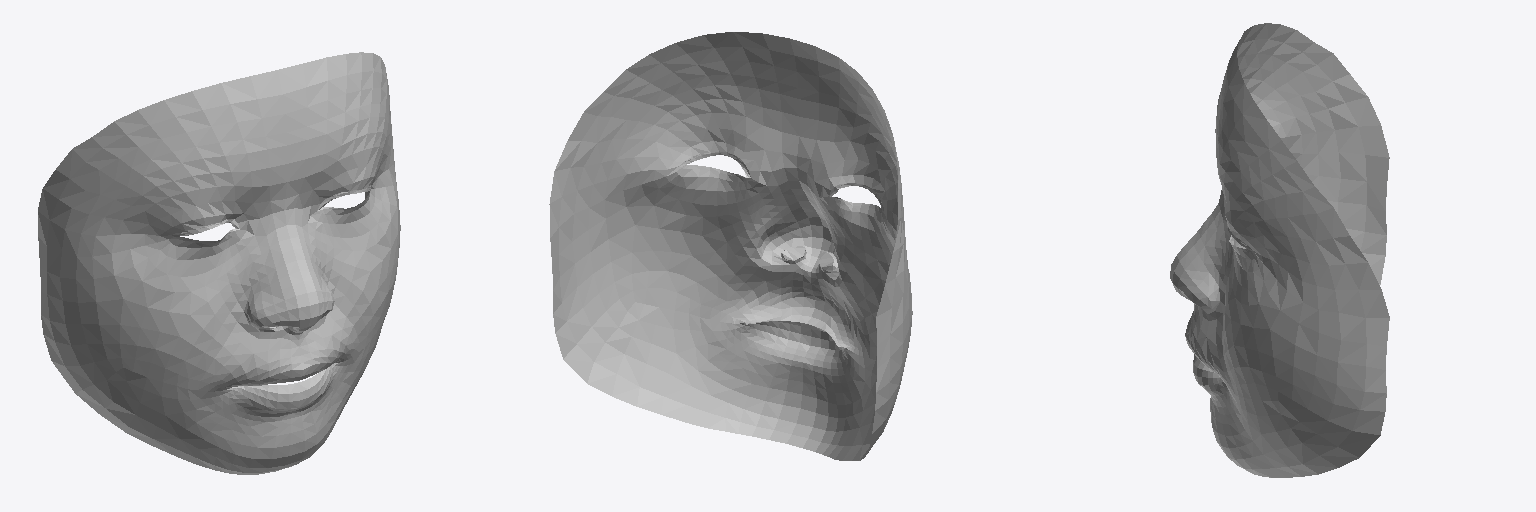
Rendered from eyeLookIn_R.obj.
3 views of the same model, side by side, from view 1: azimuth 30°, elevation 25°; view 2: azimuth 150°, elevation 25°; view 3: azimuth 270°, elevation 25° (orthographic).
Visible parts, largest first — view 1: default; view 2: default; view 3: default.
Part boxes in pixels (bbox=[...]): default: bbox=[38, 52, 400, 474]; default: bbox=[549, 32, 912, 460]; default: bbox=[1170, 23, 1389, 477].
Bounding box in the file's own units: 0.1624 × 0.1851 × 0.0913.